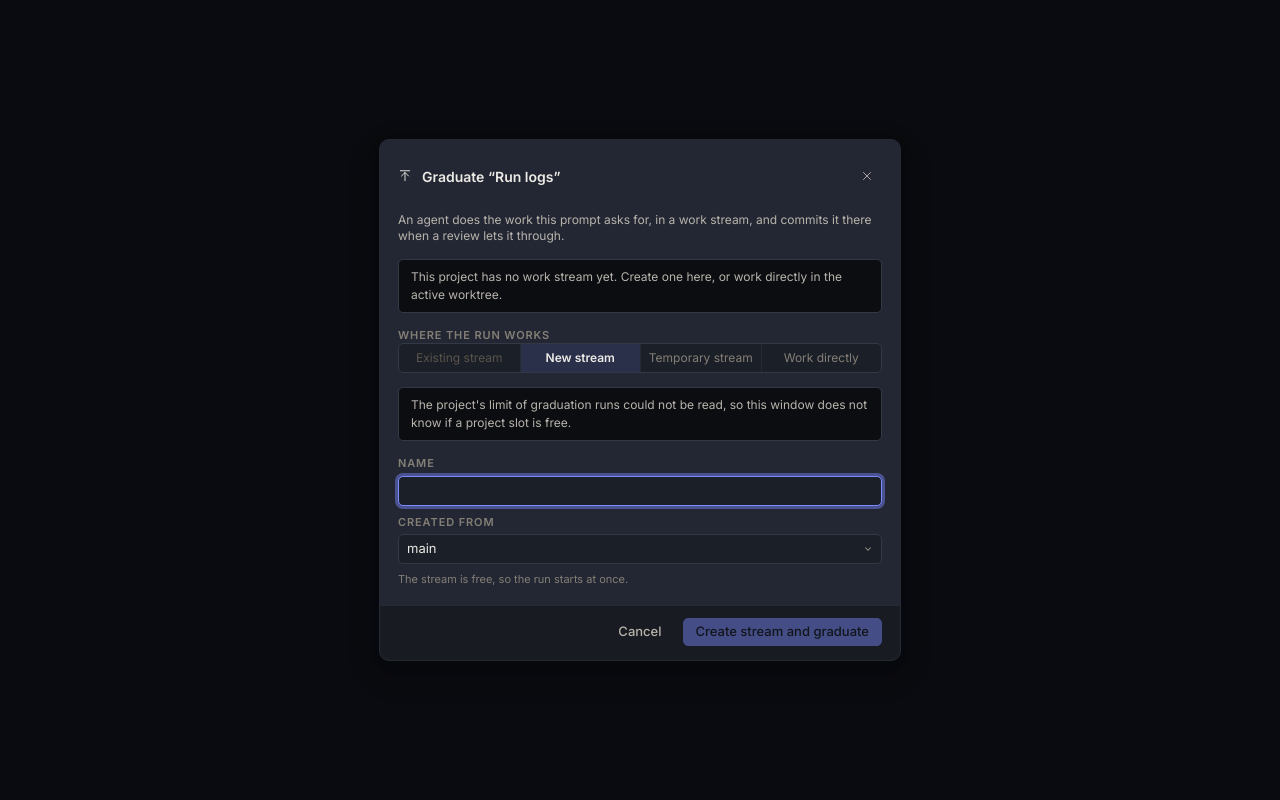
Temporary stream › GSD-FR-WJHN: the draft's name is the placeholder, and the confirm is enabled with an empty name
The image size is (1280, 800).
Expected: the element with test id "graduation-destination" is shown, left=398, top=327, right=882, bottom=373
Click the radio button labelled "Temporary stream" at (700, 358), box left=640, top=344, right=760, bottom=372
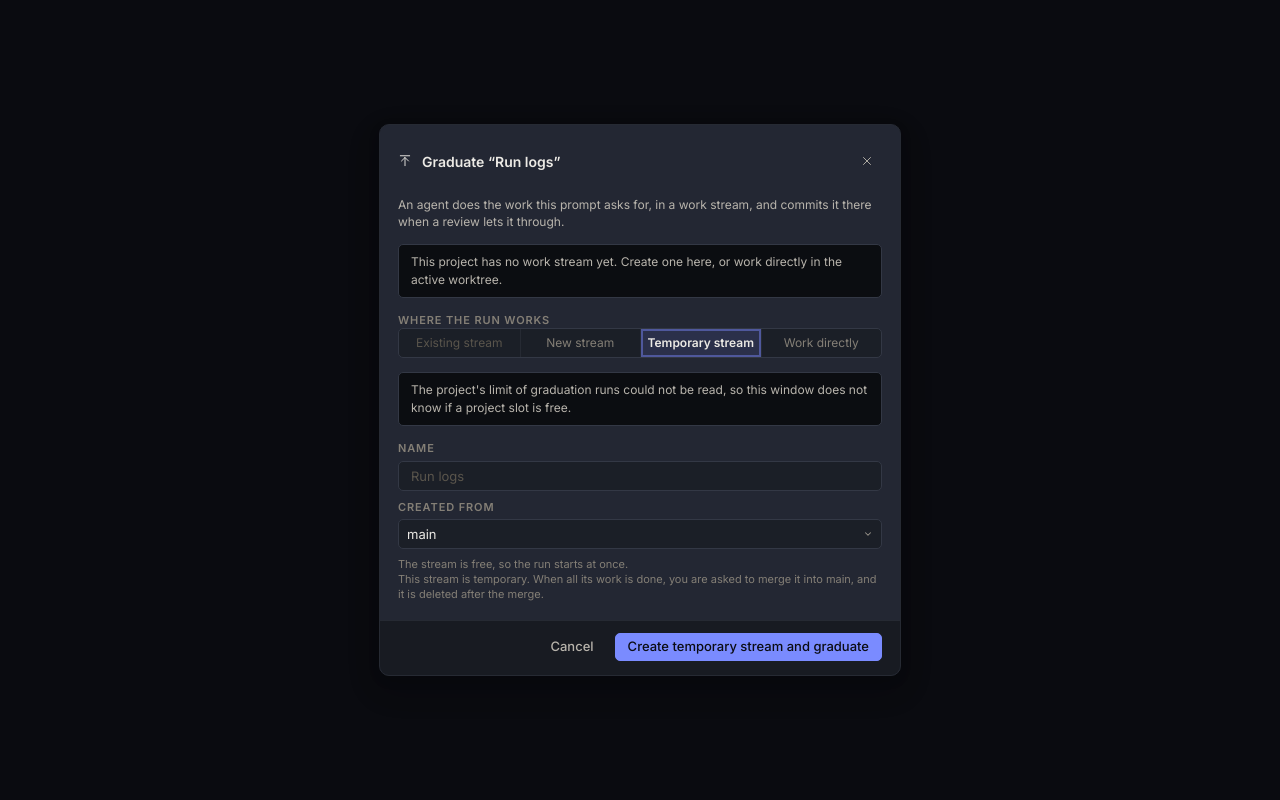
Expected: the field labelled "Name" is empty, left=398, top=461, right=882, bottom=491
Expected: the button with test id "graduation-start-confirm" is enabled, left=615, top=633, right=882, bottom=661
